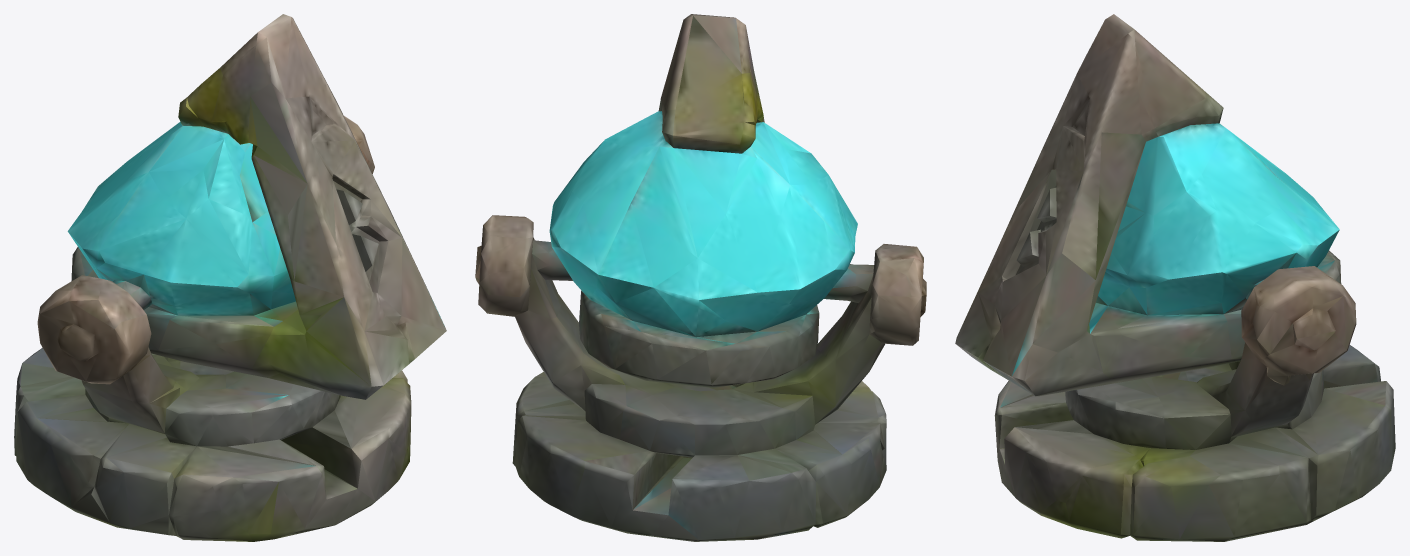
Rendered from prisma_orientable_1500.glb.
The picture shows the model from 3 angles, left to right: view 1: azimuth 30°, elevation 25°; view 2: azimuth 150°, elevation 25°; view 3: azimuth 270°, elevation 25°; orthographic projection. The views are drawn at different scales.
Visible parts, largest first — view 1: prisma_orientable_malla; view 2: prisma_orientable_malla; view 3: prisma_orientable_malla.
Part boxes in pixels (x1,y1,x2,y2): prisma_orientable_malla: [14, 14, 446, 541]; prisma_orientable_malla: [475, 14, 926, 541]; prisma_orientable_malla: [955, 14, 1395, 541].
Bounding box in the file's own units: 0.2995 × 0.3297 × 0.2857.
Materials: 1 (1 with a texture image).
